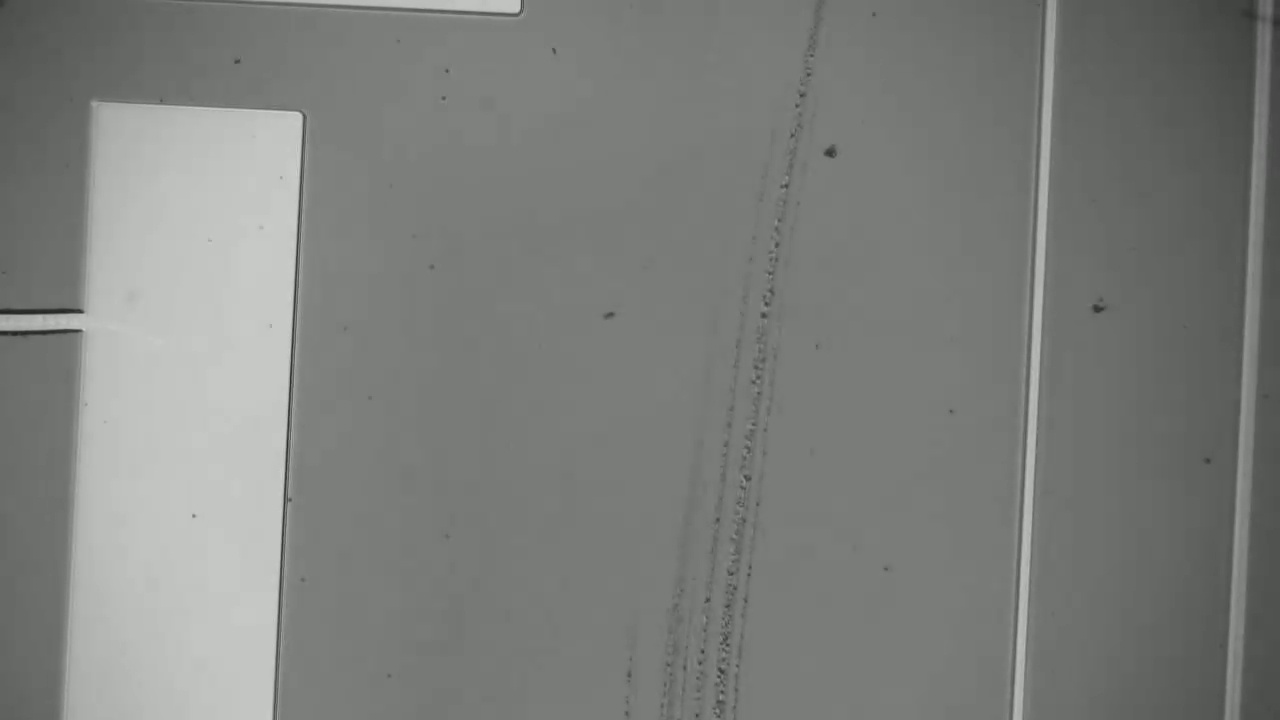Short_circuit: (0, 281, 116, 366)
scratch: (619, 9, 820, 715)
